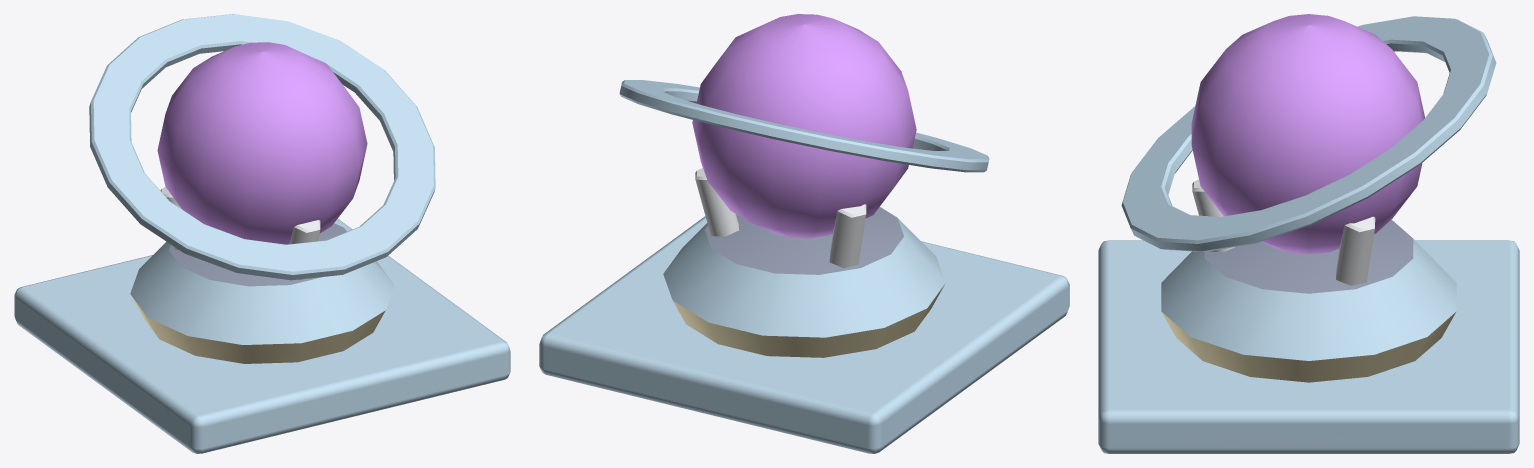
File: R4X_OrbAmplifier.fbx
3 renders of one model, left to right at view 1: azimuth 30°, elevation 25°; view 2: azimuth 150°, elevation 25°; view 3: azimuth 270°, elevation 25°, orthographic. The views are drawn at different scales.
Parts seen in each view (by area): view 1: R4X_OrbAmplifier_Body, R4X_OrbAmplifier_Ring; view 2: R4X_OrbAmplifier_Body, R4X_OrbAmplifier_Ring; view 3: R4X_OrbAmplifier_Body, R4X_OrbAmplifier_Ring.
Boxes of the visible parts, bbox=[...] form: R4X_OrbAmplifier_Body: bbox=[14, 42, 510, 453]; R4X_OrbAmplifier_Ring: bbox=[89, 14, 435, 280]; R4X_OrbAmplifier_Body: bbox=[539, 14, 1069, 453]; R4X_OrbAmplifier_Ring: bbox=[619, 80, 989, 172]; R4X_OrbAmplifier_Body: bbox=[1098, 14, 1519, 453]; R4X_OrbAmplifier_Ring: bbox=[1121, 16, 1496, 251].
Size of the model in its own units: 0.52 by 0.4685 by 0.52.
